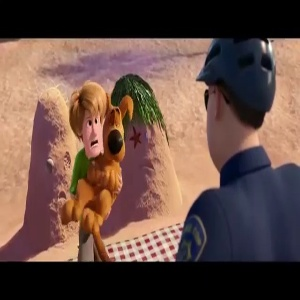Scooby: (105, 103, 132, 166)
Shagy: (69, 87, 102, 160)
